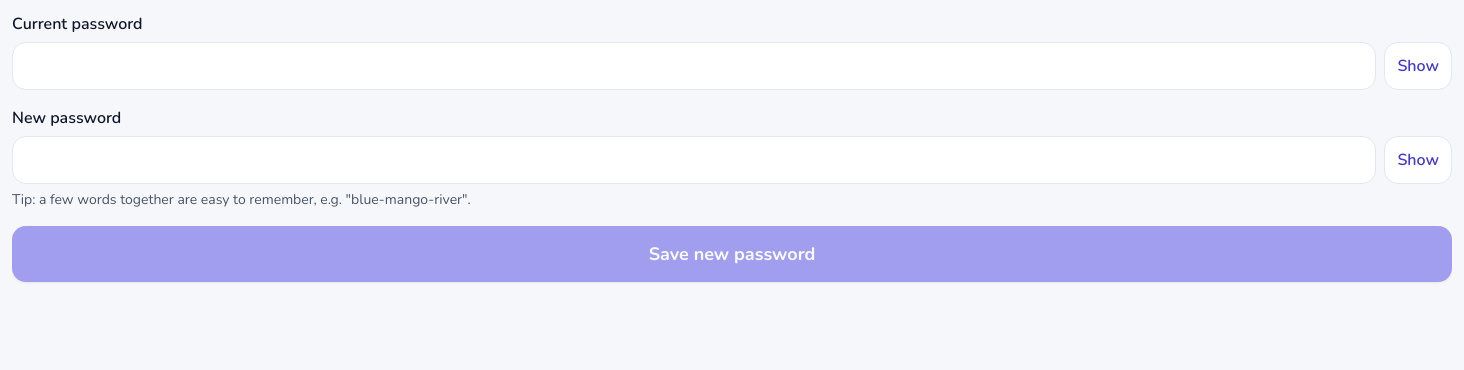
ChangePasswordForm › shows the API message when the current password is wrong
Type "oops" into the password field labelled "Current password" at (694, 66), box [12,42,1376,90]
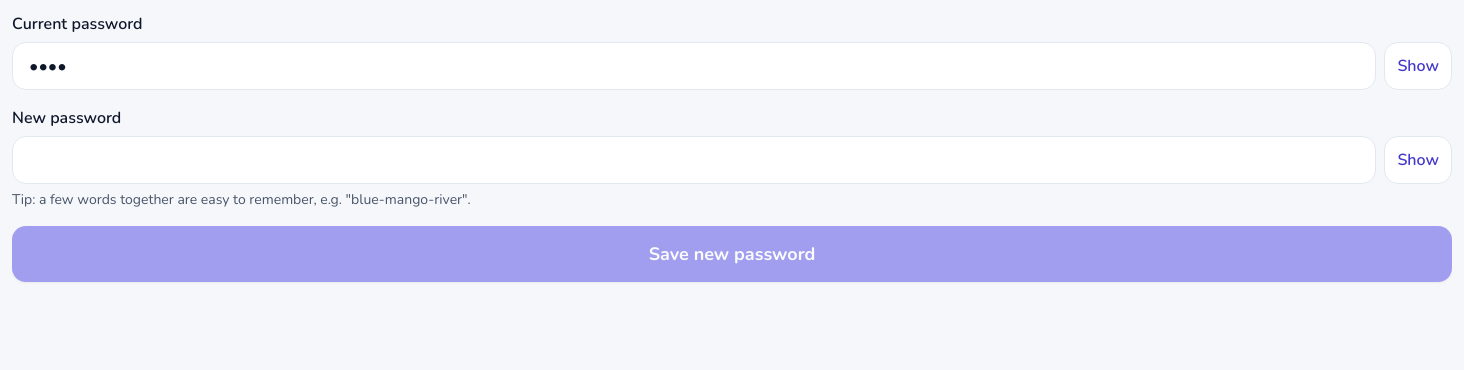
Type "blue-mango-river" into the password field labelled "New password" at (694, 160), box [12,136,1376,184]
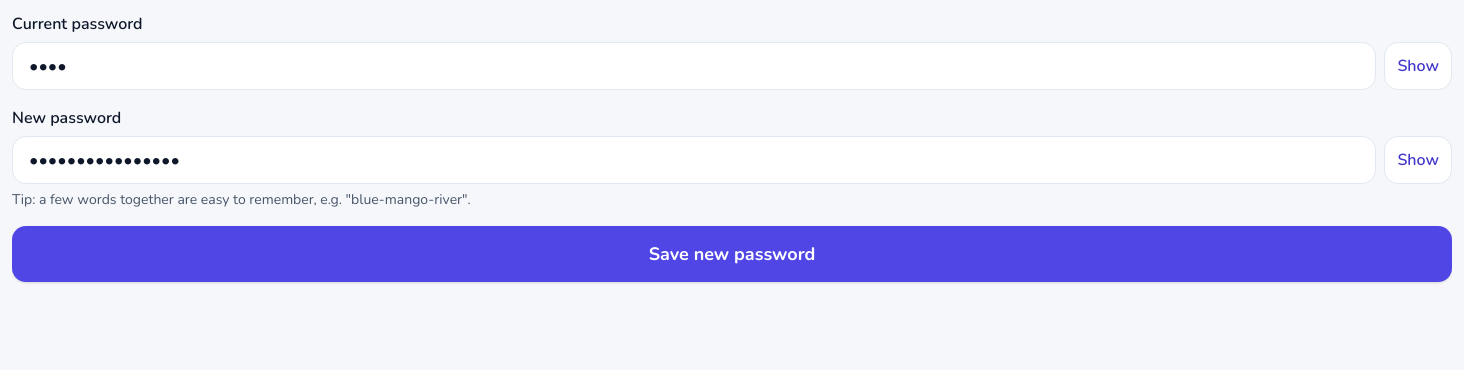
Click the button "Save new password" at (732, 254), box [12,226,1452,282]
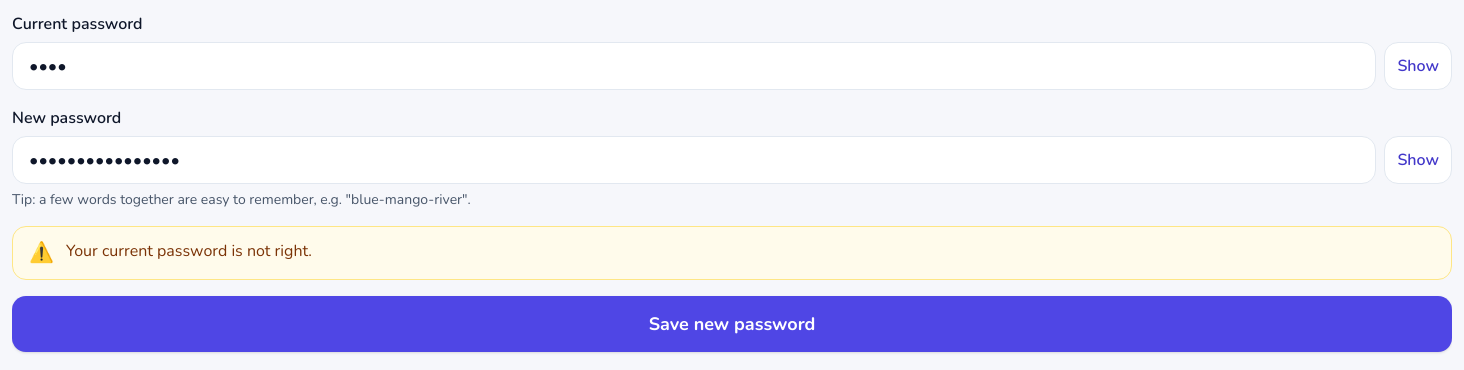
Expected: the message shows "Your current password is not right.", [66,240,312,262]
